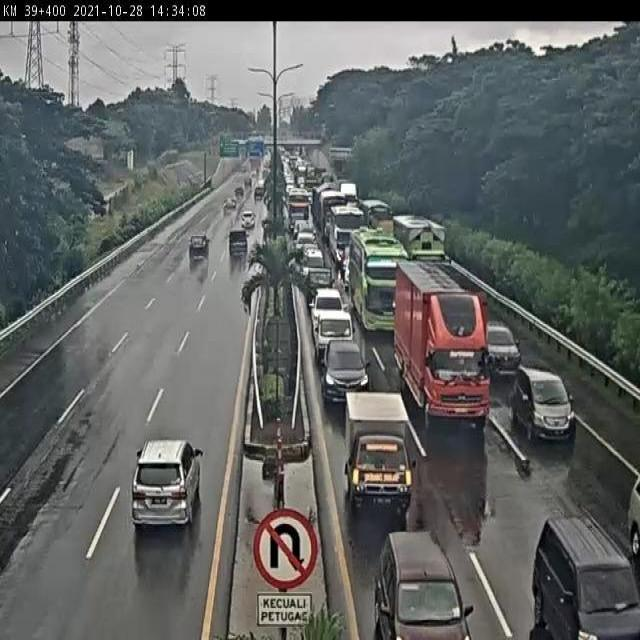bus-l-: (350, 229, 411, 335), (330, 208, 366, 265)
car: (516, 504, 637, 640), (373, 514, 466, 640), (341, 396, 414, 517), (133, 439, 202, 529), (513, 362, 577, 442), (321, 340, 372, 404), (482, 318, 520, 382), (314, 314, 357, 366), (309, 292, 348, 331), (303, 269, 336, 304), (227, 231, 249, 260), (188, 236, 209, 261), (303, 250, 328, 270), (342, 252, 357, 285), (297, 234, 317, 258), (293, 218, 316, 238)
truck-l-: (391, 263, 487, 421), (392, 216, 453, 292)
